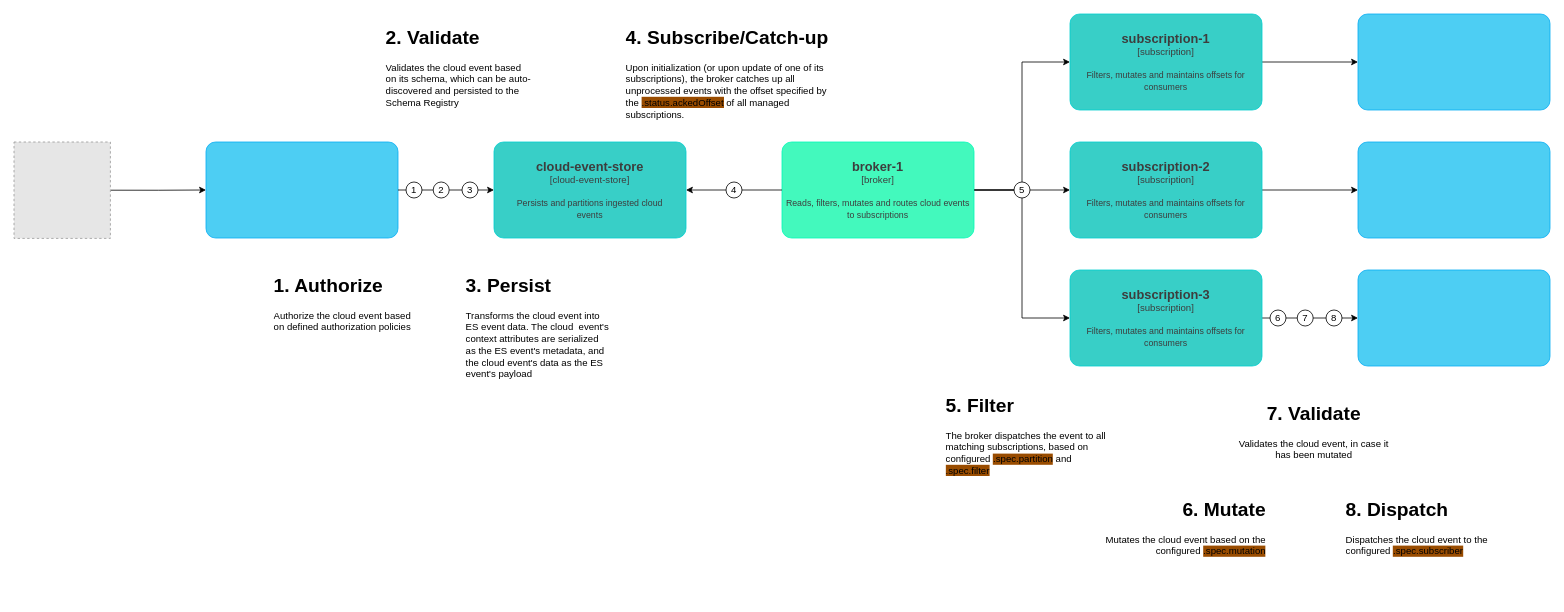
Image size: 1564x612. Some labels were removed from this diagram. Grey dashed boxes stand in for pictures. Here are the shapes that lost their labels. From the top down, the box of each, then its label:
(1357, 13, 1550, 110): consumer-1 [consumer] Consumes Cloud Events over HTTP
(205, 141, 398, 238): gateway-1 [gateway] Authorizes, validates and persists cloud events
(1357, 141, 1550, 238): consumer-2 [consumer] Consumes Cloud Events over HTTP
(1357, 269, 1550, 366): consumer-3 [consumer] Consumes Cloud Events over HTTP
